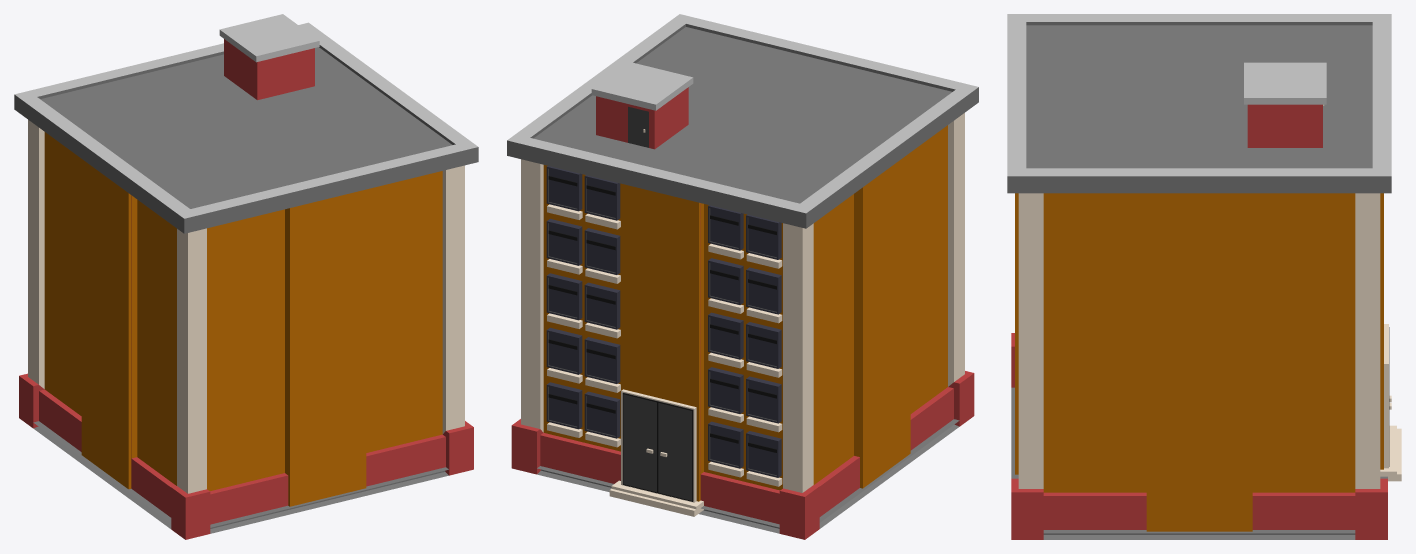
The model's file is Evgeniy.fbx.
3 views of the same model, side by side, from view 1: azimuth 30°, elevation 25°; view 2: azimuth 150°, elevation 25°; view 3: azimuth 270°, elevation 25° (orthographic). The views are drawn at different scales.
Visible parts, largest first — view 1: House, Roof; view 2: House, Doors, Roof, Window_13, Window_14, Window_11, Window_12, Window_18, Window_19, Window_16, Window_17, Window (+13 smaller); view 3: House, Roof, Sill, Door_frame.
Part boxes in pixels (x1,y1,x2,y2): House: (14, 22, 478, 539); Roof: (219, 14, 319, 100); House: (507, 14, 978, 539); Doors: (622, 393, 693, 501); Roof: (591, 62, 693, 149); Window_13: (584, 282, 620, 329); Window_14: (584, 228, 620, 274); Window_11: (584, 391, 620, 438); Window_12: (584, 337, 620, 383); Window_18: (546, 273, 582, 320); Window_19: (546, 218, 582, 265); Window_16: (546, 382, 582, 429); Window_17: (546, 327, 582, 374); Window: (746, 431, 781, 477); House: (1007, 14, 1391, 539); Roof: (1244, 62, 1326, 147); Sill: (1380, 425, 1401, 481); Door_frame: (1384, 324, 1388, 468).
Size of the model in its own units: 510 by 606 by 523.
